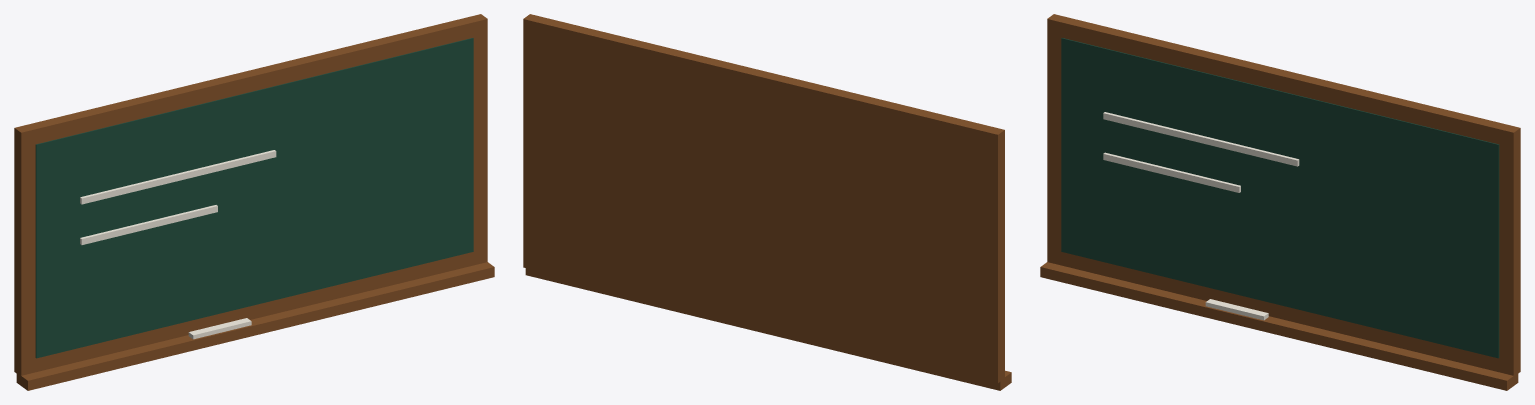
Rendered from chalkboard.fbx.
3 views of the same model, side by side, from view 1: azimuth 30°, elevation 25°; view 2: azimuth 150°, elevation 25°; view 3: azimuth 330°, elevation 25° (orthographic).
Parts seen in each view (by area): view 1: chalkboard; view 2: chalkboard; view 3: chalkboard.
Part boxes in pixels (<box>): chalkboard: <box>14,14,494,390</box>; chalkboard: <box>523,14,1011,390</box>; chalkboard: <box>1040,14,1520,390</box>.
Bounding box in the file's own units: 2.4 × 1.24 × 0.12.
